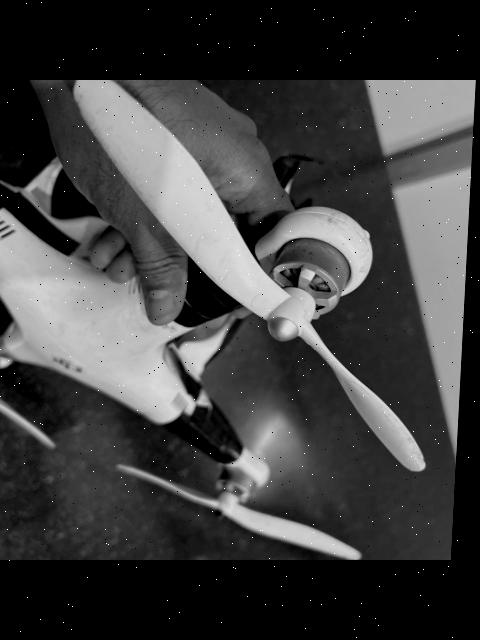drone: (0, 80, 451, 560)
